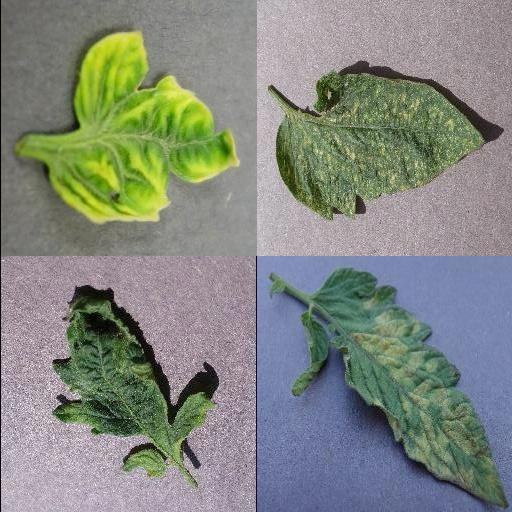Leaf Mold: (291, 271, 509, 508)
Mosaic Virus: (52, 293, 222, 479)
Spider Mites: (273, 70, 487, 220)
Yellow Leaf Curl Virus: (46, 30, 240, 224)
